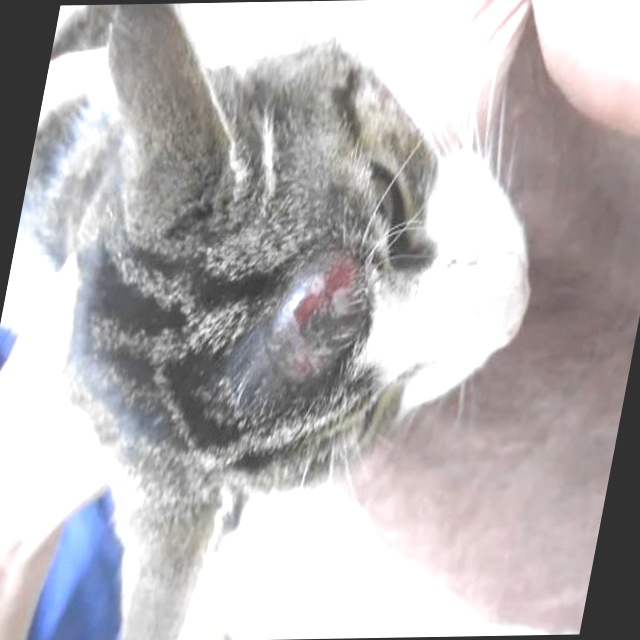lump_and_bump: (255, 242, 372, 397)
